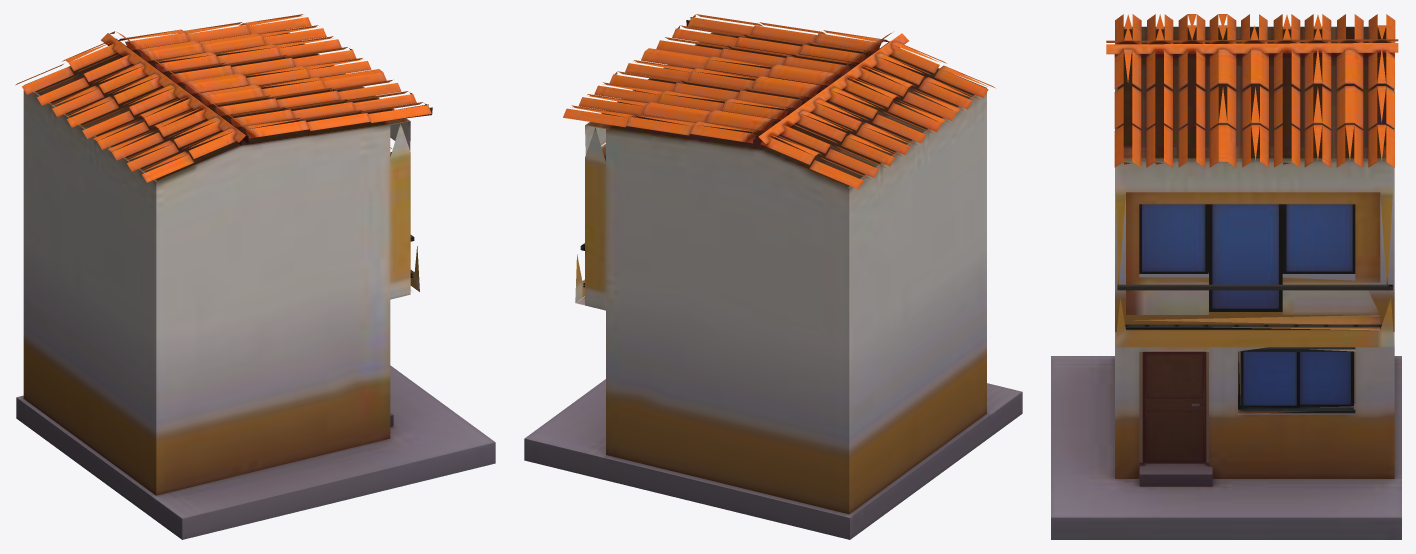
The model's file is casa-estrato-4.glb.
The picture shows the model from 3 angles, left to right: view 1: azimuth 30°, elevation 25°; view 2: azimuth 150°, elevation 25°; view 3: azimuth 270°, elevation 25°; orthographic projection. The views are drawn at different scales.
Visible parts, largest first — view 1: Beige 4, Tejas 4, Gris 4, Material.004; view 2: Beige 4, Tejas 4, Gris 4, Material.004; view 3: Beige 4, Gris 4, Tejas 4, Negro 4, Madera 4, Balcon 4, Material.004.
Part boxes in pixels (left/top/right/bottom): Beige 4: left=23, top=30, right=419, bottom=495; Tejas 4: left=15, top=14, right=431, bottom=182; Gris 4: left=16, top=365, right=495, bottom=539; Material.004: left=116, top=37, right=432, bottom=145; Beige 4: left=575, top=32, right=986, bottom=514; Tejas 4: left=563, top=14, right=994, bottom=189; Gris 4: left=524, top=379, right=1022, bottom=539; Material.004: left=673, top=17, right=890, bottom=149; Beige 4: left=1115, top=26, right=1394, bottom=478; Gris 4: left=1051, top=356, right=1401, bottom=539; Tejas 4: left=1106, top=14, right=1398, bottom=167; Negro 4: left=1139, top=204, right=1355, bottom=413; Madera 4: left=1142, top=351, right=1206, bottom=462; Balcon 4: left=1117, top=284, right=1393, bottom=329; Material.004: left=1123, top=52, right=1386, bottom=58.
Size of the model in its own units: 4.56 by 4.97 by 4.1.
Materials: 8 (8 with a texture image).
